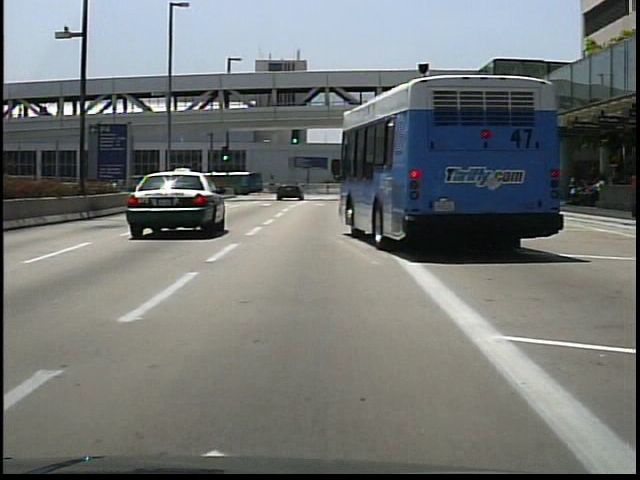person: (565, 170, 579, 205)
